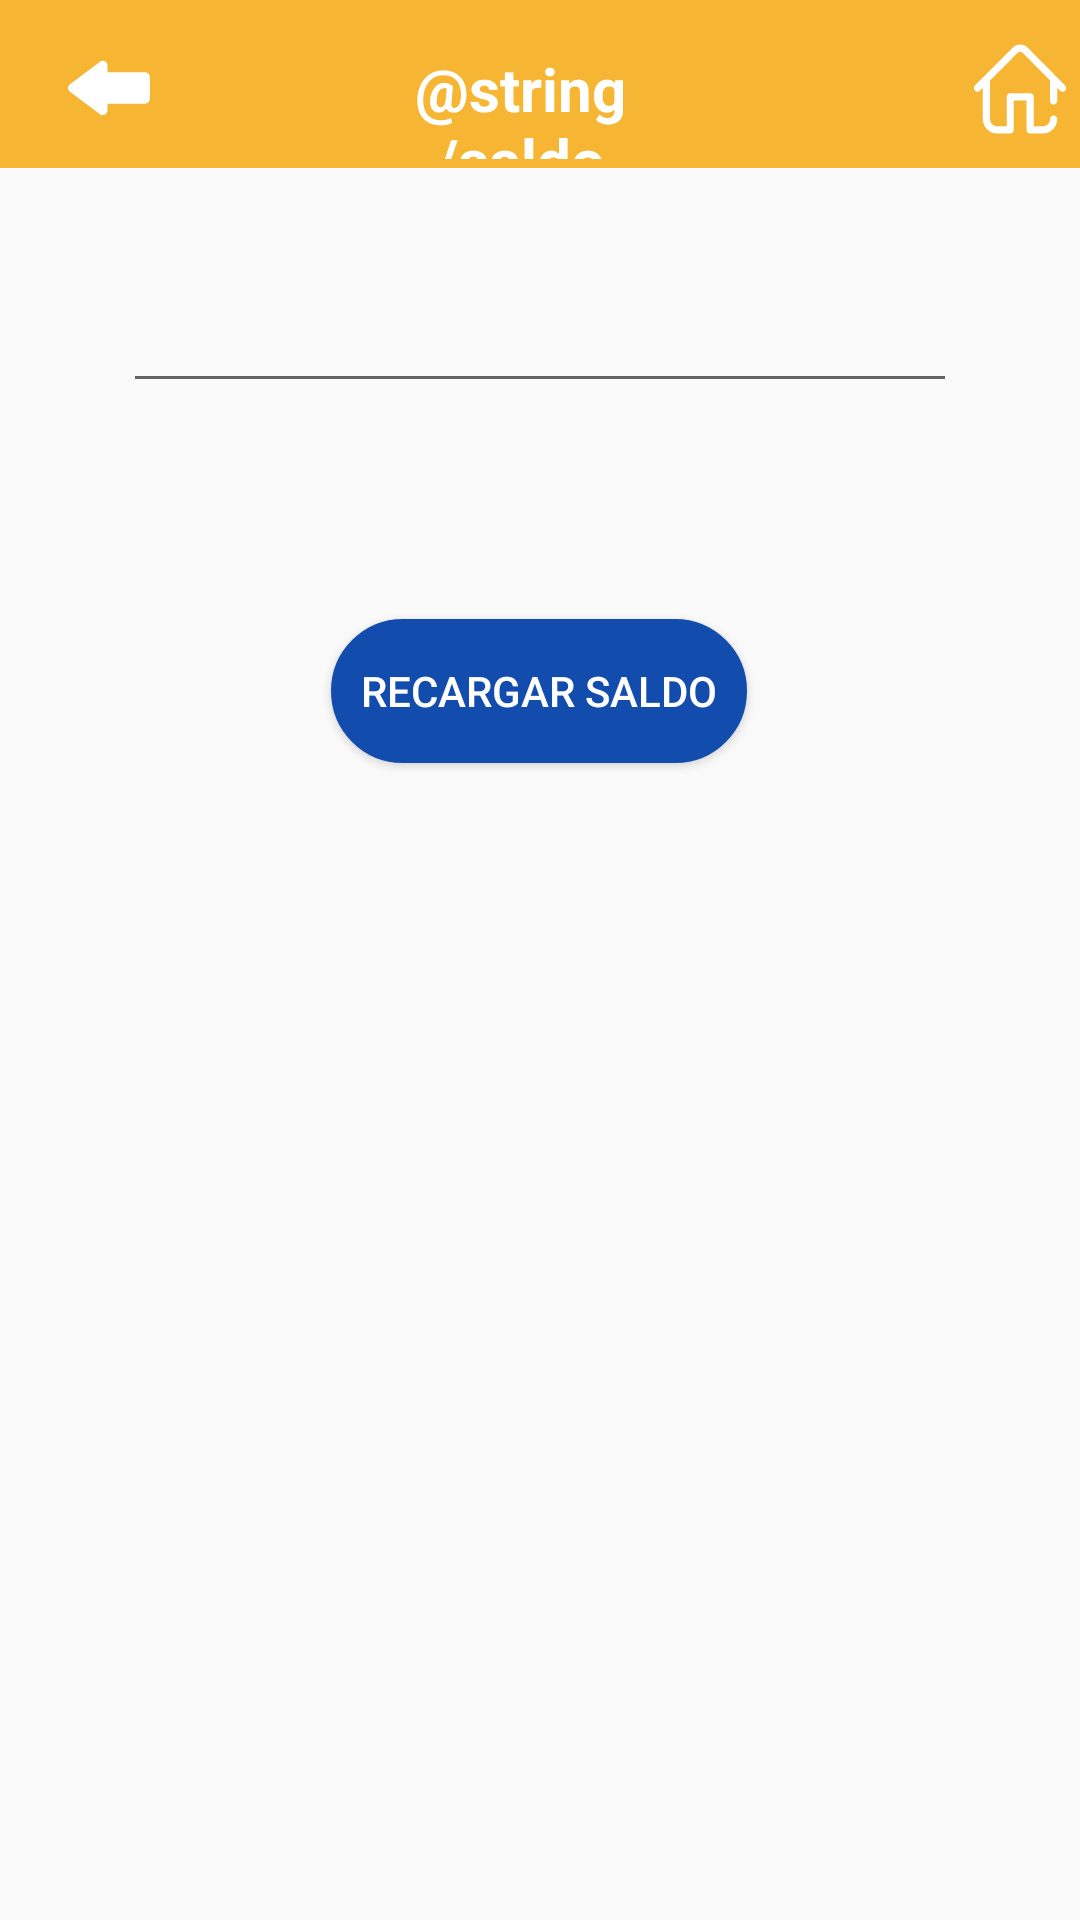

Icons on this 1080px x 1920px Android screen, each with its box as {"left": x1, "top": y1, "right": x2, "bottom": y2}:
flecha: {"left": 68, "top": 60, "right": 150, "bottom": 115}
